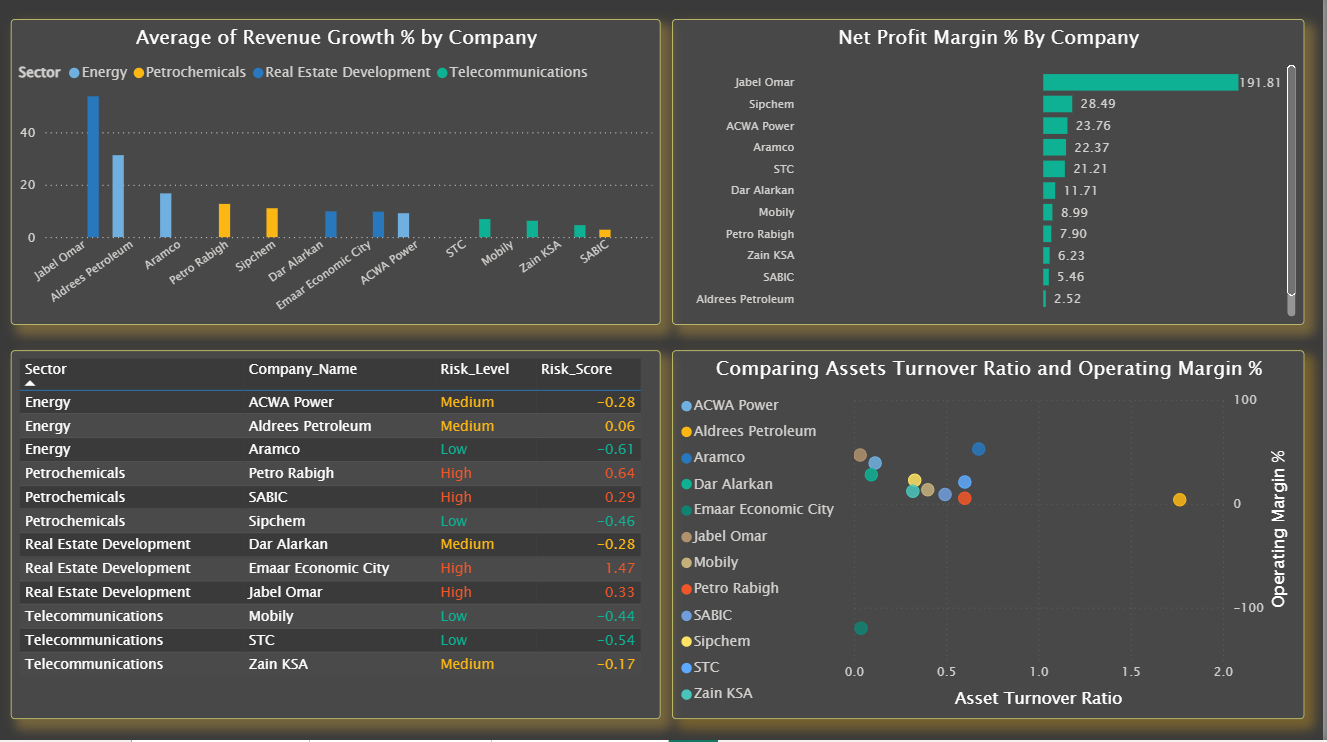

The page's visual inventory and layout, read from the dashboard file:
{"tool":"powerbi","page":{"name":"Company Risk Map","canvas":[1280,720],"ordinal":1},"visuals":[{"type":"tableEx","fields":{"Values":["Sheet1 (2).Sector","Sheet1 (2).Company_Name","Sheet1 (2).Risk_Level","Sheet1 (2).Risk_Score"]},"box":[12.8,343.5,627.2,356.3],"z":0},{"type":"scatterChart","title":"Comparing Assets Turnover Ratio and Operating Margin %","fields":{"X":["Sheet1 (2).Asset_Turnover_Ratio"],"Y":["Sheet1 (2).Operating_Margin_%"],"Series":["Sheet1 (2).Company_Name"]},"box":[651.4,343.5,610.1,356.3],"z":1000},{"type":"clusteredColumnChart","title":"Average of Revenue Growth % by Company","fields":{"Category":["Sheet1.Company_Name"],"Y":["Avg(Sheet1.Revenue_Growth_%)"],"Series":["Sheet1.Sector"]},"box":[12.8,24.2,627.2,295.1],"z":2000},{"type":"barChart","title":"Net Profit Margin % By Company","fields":{"Category":["Sheet1 (2).Company_Name"],"Y":["Sum(Sheet1 (2).Net_Profit_Margin_%)"]},"box":[651,24,610,295],"z":3000}]}

Visuals, with their boxes in screenshot pixels (x1, y1, x2, y2), scaled from the page's 1280x720 canvas onto the 1327x742 screenshot:
tableEx - Sheet1 (2).Sector x Sheet1 (2).Company_Name: <region>13, 354, 664, 721</region>
"Comparing Assets Turnover Ratio and Operating Margin %" scatterChart: <region>675, 354, 1308, 721</region>
"Average of Revenue Growth % by Company" clusteredColumnChart: <region>13, 25, 664, 329</region>
"Net Profit Margin % By Company" barChart: <region>675, 25, 1307, 329</region>
